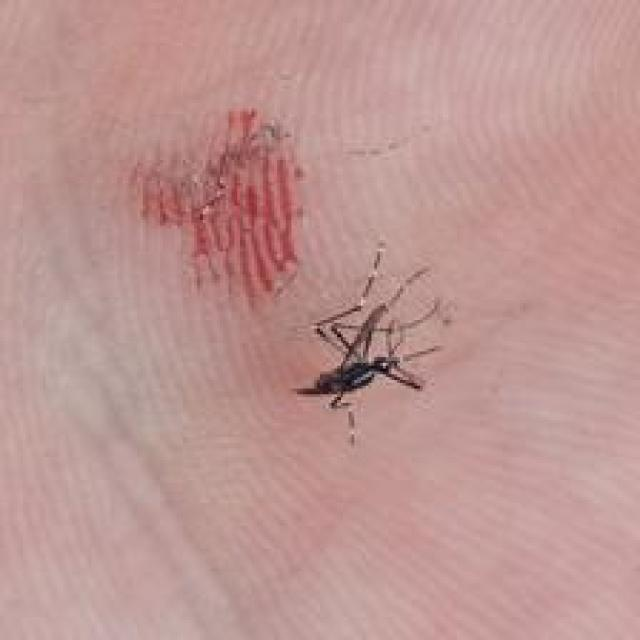Aedes albopictus: (291, 243, 446, 446)
